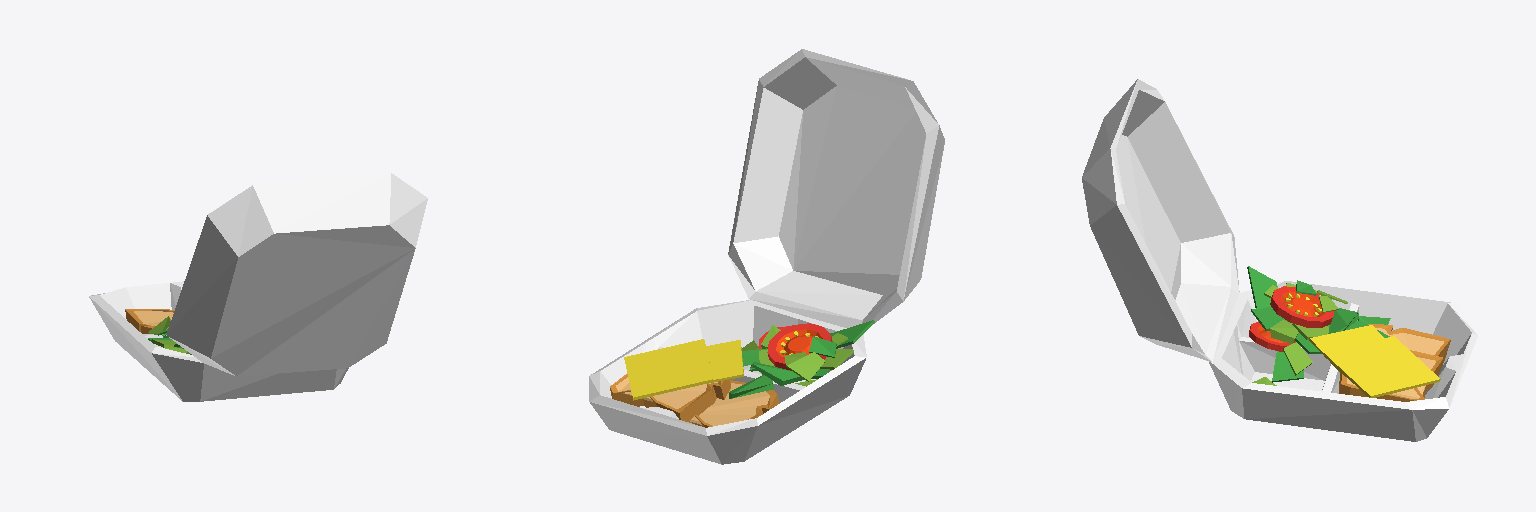
The model's file is meal.obj.
The picture shows the model from 3 angles: view 1: azimuth 30°, elevation 25°; view 2: azimuth 150°, elevation 25°; view 3: azimuth 270°, elevation 25°; orthographic projection.
Parts seen in each view (by area): view 1: group[number redacted], group[number redacted]; view 2: group[number redacted], group[number redacted], group[number redacted], group[number redacted], group[number redacted], group[number redacted], group[number redacted], group[number redacted], group[number redacted]; view 3: group[number redacted], group[number redacted], group[number redacted], group[number redacted], group[number redacted], group[number redacted], group[number redacted], group[number redacted], group[number redacted], group[number redacted].
Part boxes in pixels (x1,y1,x2,y2): group[number redacted]: (89,173,427,401); group[number redacted]: (125,309,174,333); group[number redacted]: (589,49,944,464); group[number redacted]: (624,339,713,400); group[number redacted]: (610,374,730,422); group[number redacted]: (690,380,779,427); group[number redacted]: (767,323,832,370); group[number redacted]: (706,340,743,383); group[number redacted]: (786,352,824,381); group[number redacted]: (750,362,804,385); group[number redacted]: (729,375,773,398); group[number redacted]: (1082,79,1477,441); group[number redacted]: (1324,336,1440,397); group[number redacted]: (1270,286,1334,327); group[number redacted]: (1368,324,1450,397); group[number redacted]: (1339,350,1443,401); group[number redacted]: (1309,325,1383,376); group[number redacted]: (1247,266,1277,309); group[number redacted]: (1249,321,1295,351); group[number redacted]: (1272,351,1303,382); group[number redacted]: (1283,342,1312,375).
Size of the model in its own units: 0.909 by 1.09 by 1.39.